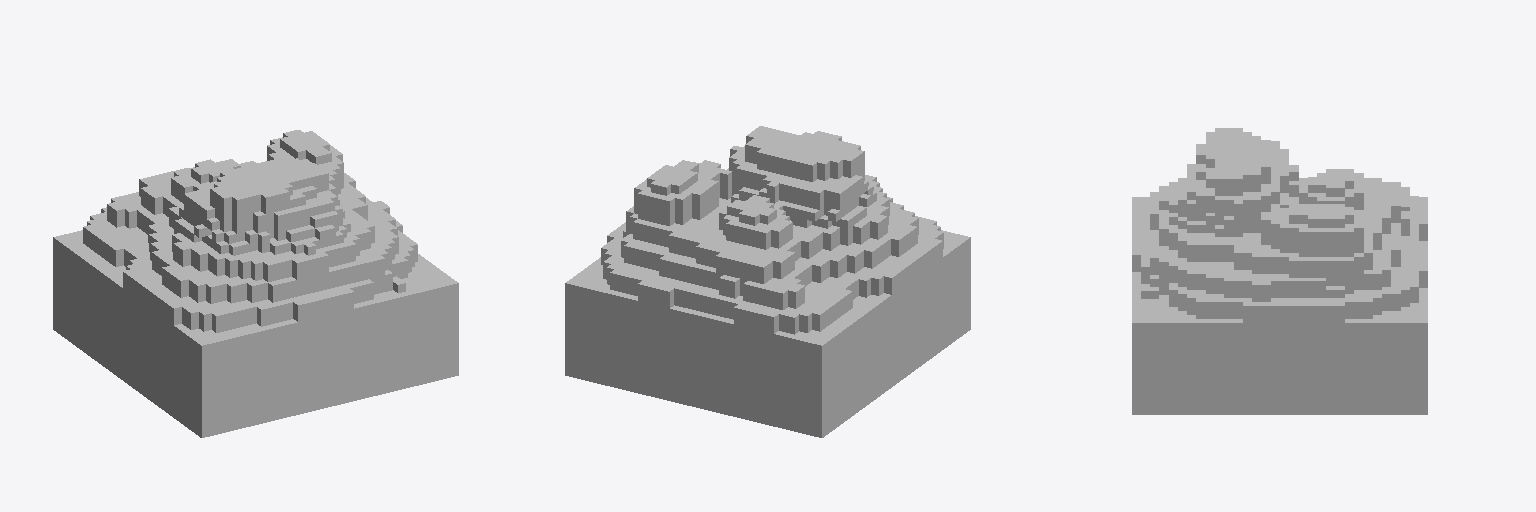
Rendered from Mountain.obj.
The picture shows the model from 3 angles: view 1: azimuth 30°, elevation 25°; view 2: azimuth 150°, elevation 25°; view 3: azimuth 270°, elevation 25°; orthographic projection.
Visible parts, largest first — view 1: object 1; view 2: object 1; view 3: object 1.
Part boxes in pixels (x1,y1,x2,y2): object 1: (53,130,458,437); object 1: (565,126,970,437); object 1: (1132,128,1427,414).
Bounding box in the file's own units: 3.2 × 2.3 × 3.2.